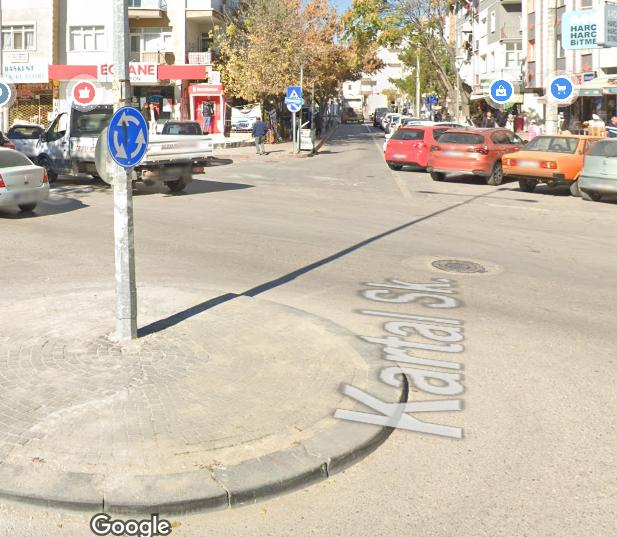crossroads: (107, 108, 152, 165)
